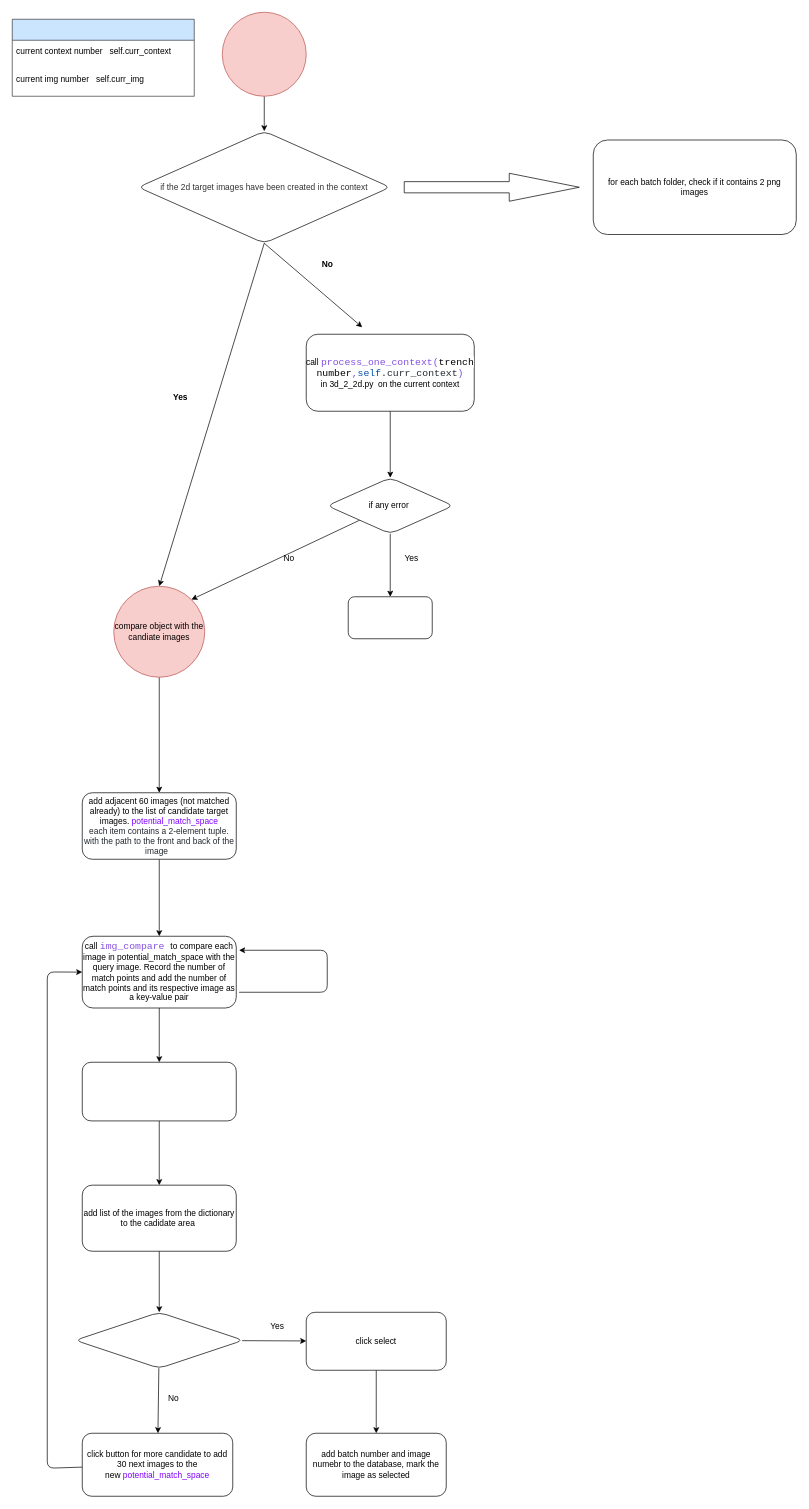
The diagram is 809 pixels wide and 1509 high, and some of its shapes have lost their labels. Each missing label, with the box of its shape:
Activate_model: (222, 12, 306, 96)
check if a match exists: (75, 1312, 243, 1368)
Known Variables: (12, 19, 194, 96)
pop up warning for user: (348, 596, 432, 639)
rank the dictionary by value: (82, 1062, 236, 1121)
